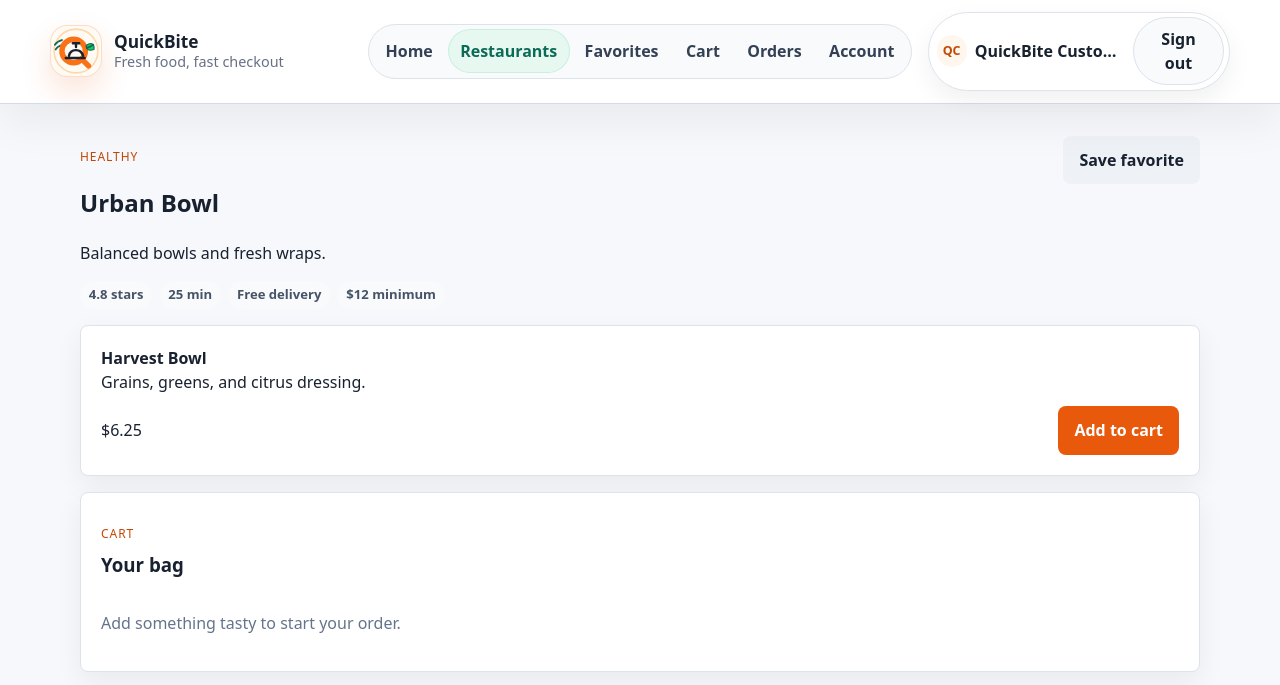
Test: QuickBite app shell › lets signed-in customers add menu items and checkout from a dedicated page
The image size is (1280, 685).
Click the button "Add to cart".
click(1119, 430)  # box [1058,406,1179,455]
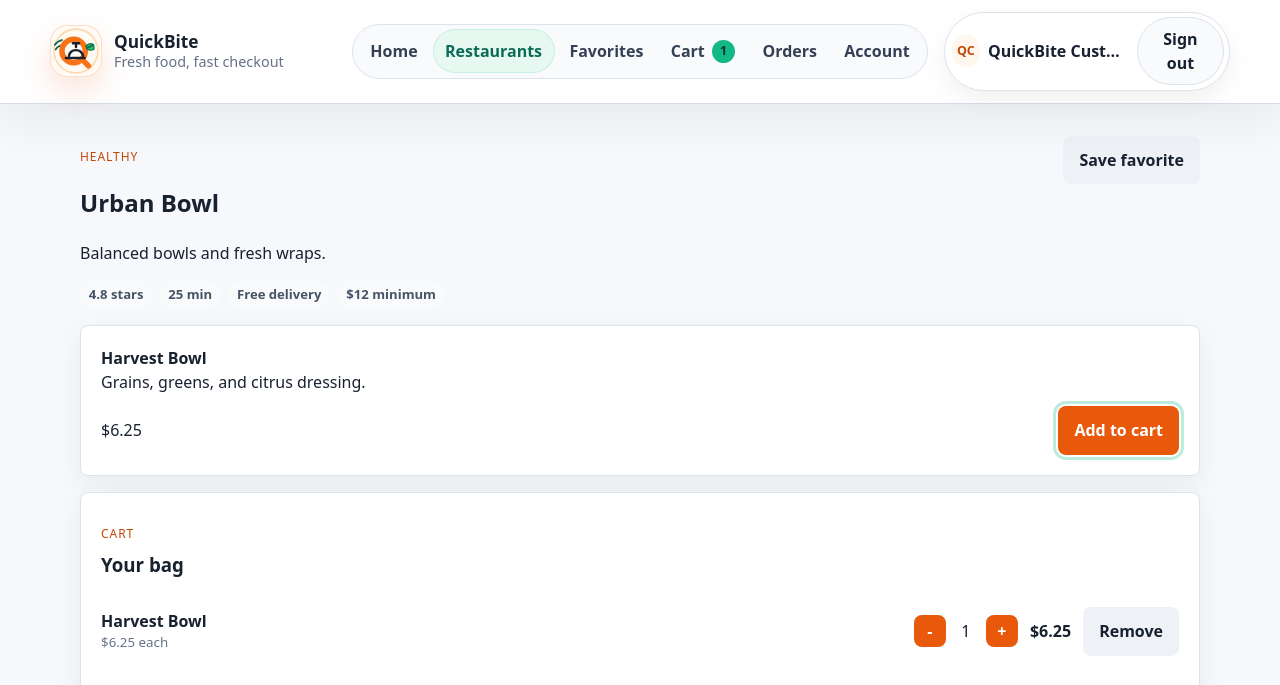
Click the button named "Increase Harvest Bowl".
click(1002, 631)  # box [986,615,1018,647]
(page scrolled)
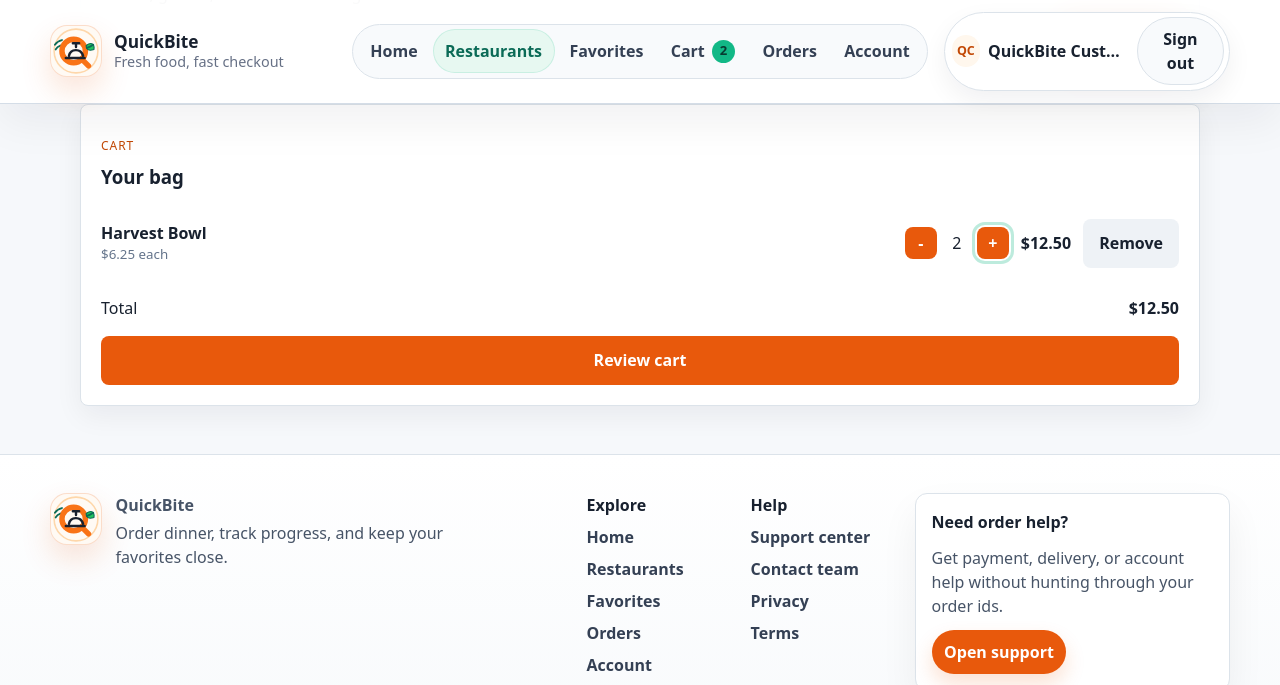
Check: the text "$12.50" is shown 2 times, box [1021,231,1071,255]; [1129,296,1179,320]
Click the button "Review cart".
click(640, 360)  # box [101,336,1179,384]
(page scrolled)
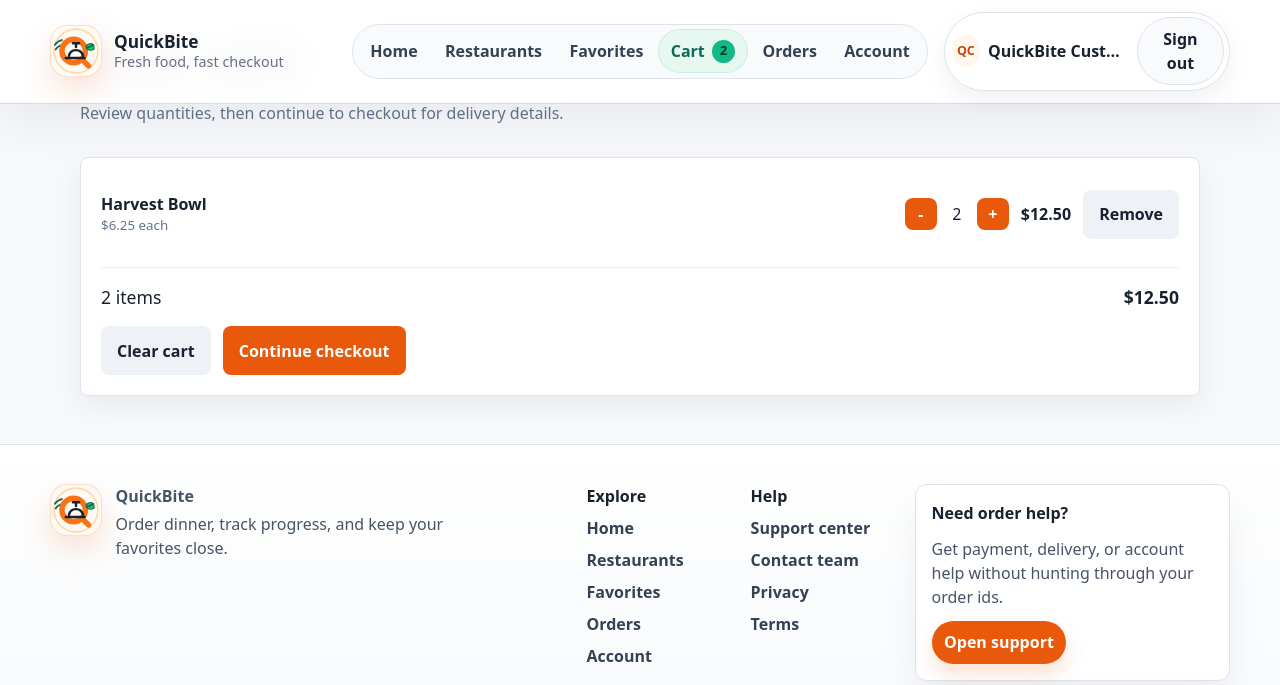
Check: the heading "Your cart" is shown, box [80,26,299,92]
Click the button "Continue checkout".
click(314, 351)  # box [223,326,406,375]
(page scrolled)
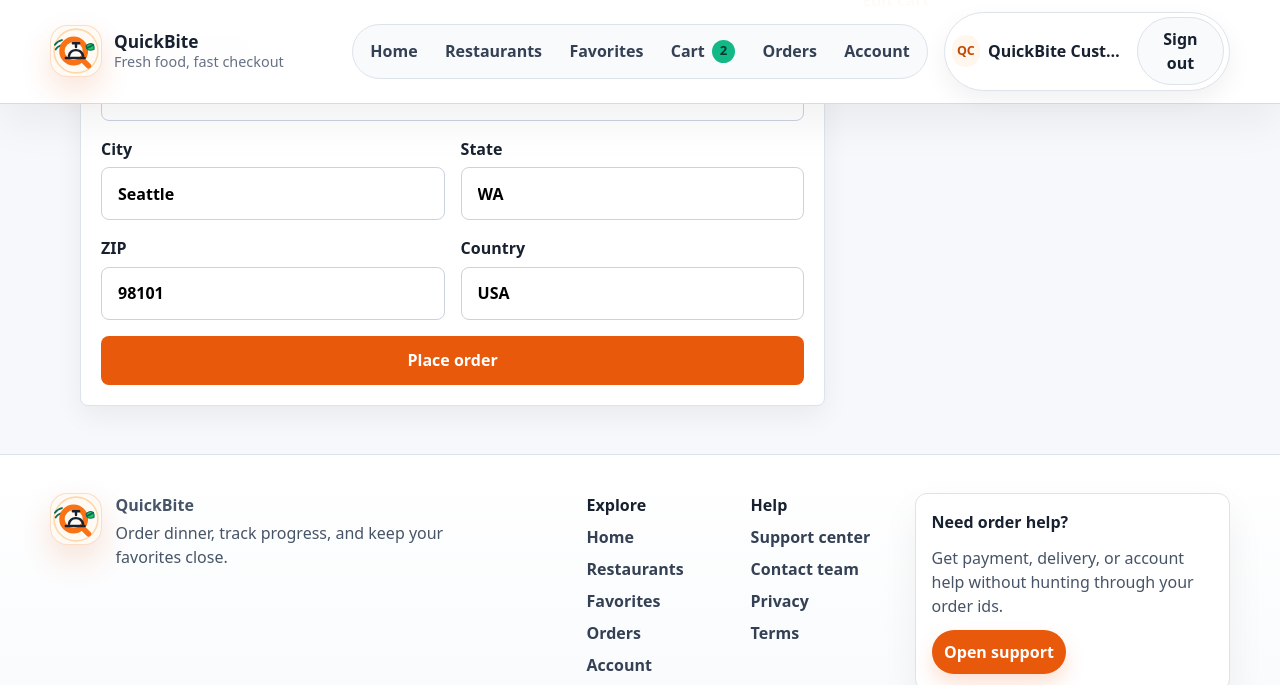
Click the button "Place order".
click(453, 360)  # box [101,336,804,385]
(page scrolled)
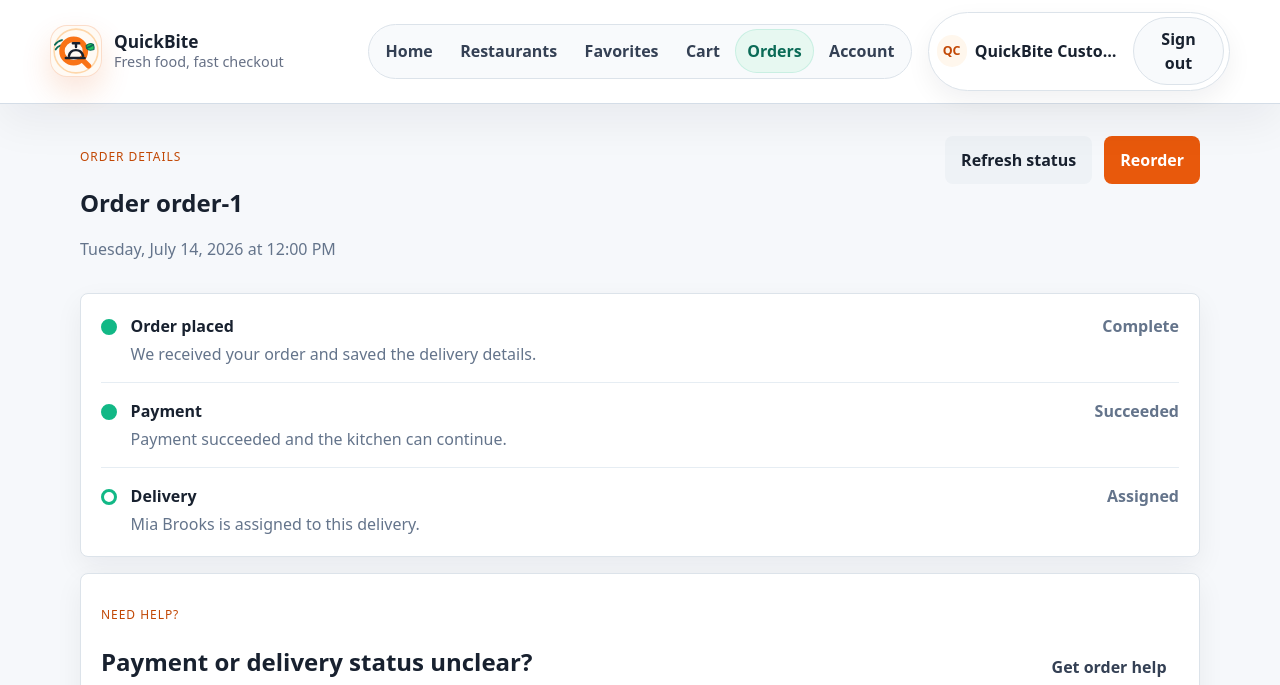
Check: the heading "Order order-1" is shown, box [80,186,243,219]
